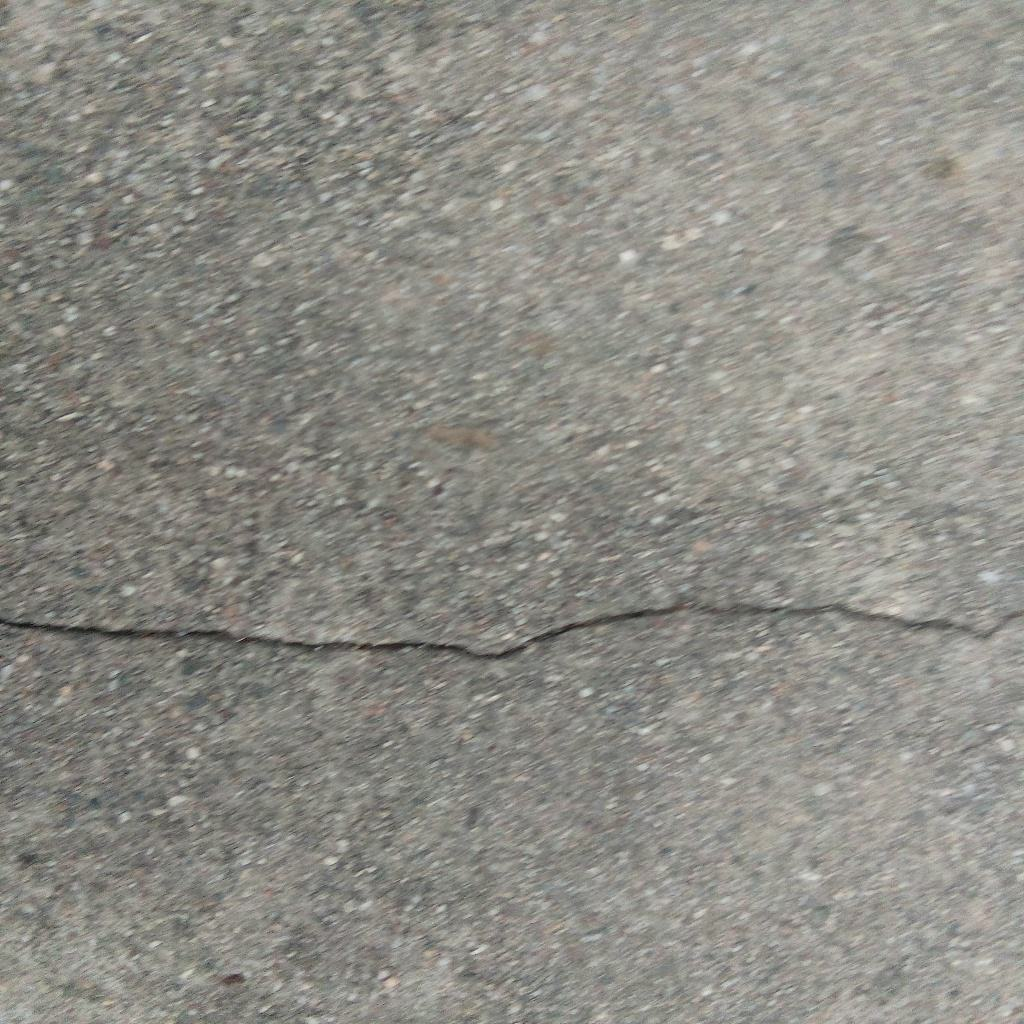Crack: (1, 601, 1024, 661)
